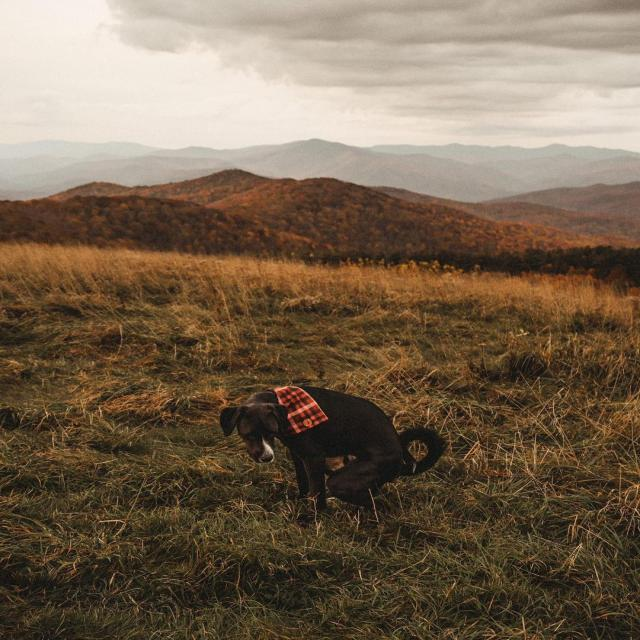squatting: (217, 374, 447, 526)
